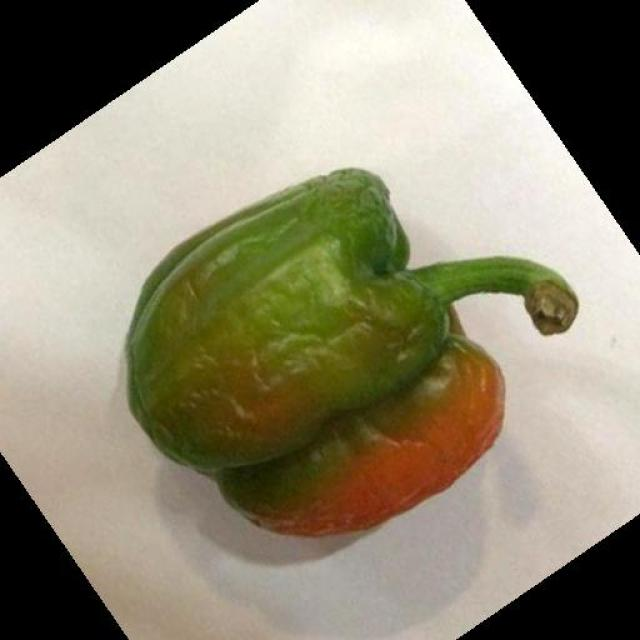Stale_Capsicum: (135, 156, 525, 601)
